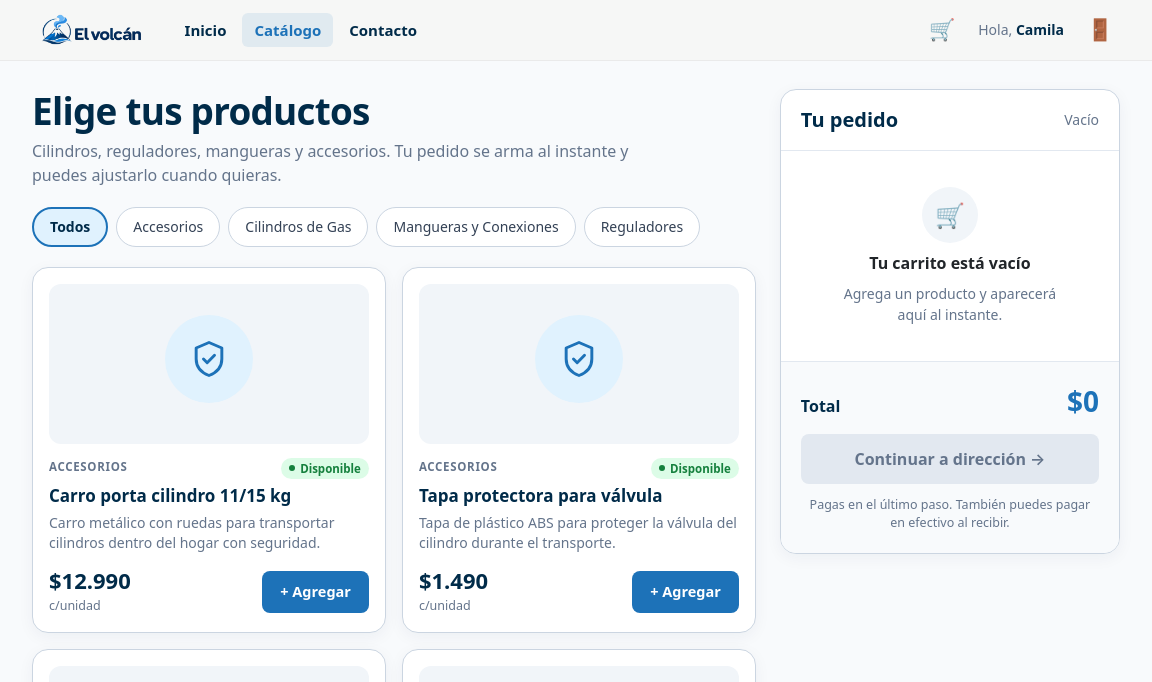
Test: App - navegación › /catalogo muestra el navbar y se puede volver al inicio
Expected: the heading "Elige tus productos" is shown, [32,86,370,136]
Step 1. Click the link "Inicio" → coordinates (206, 30), box [185,20,226,40]
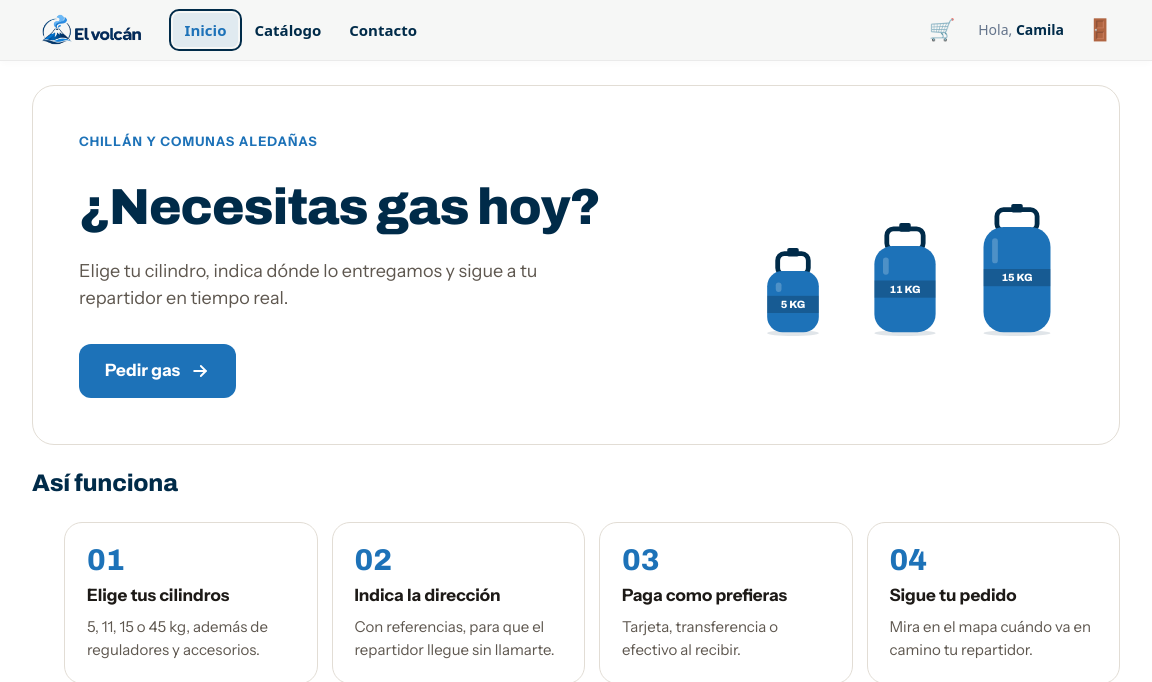
Result: the heading "¿Necesitas gas hoy?" is shown at [79,183,600,234]
